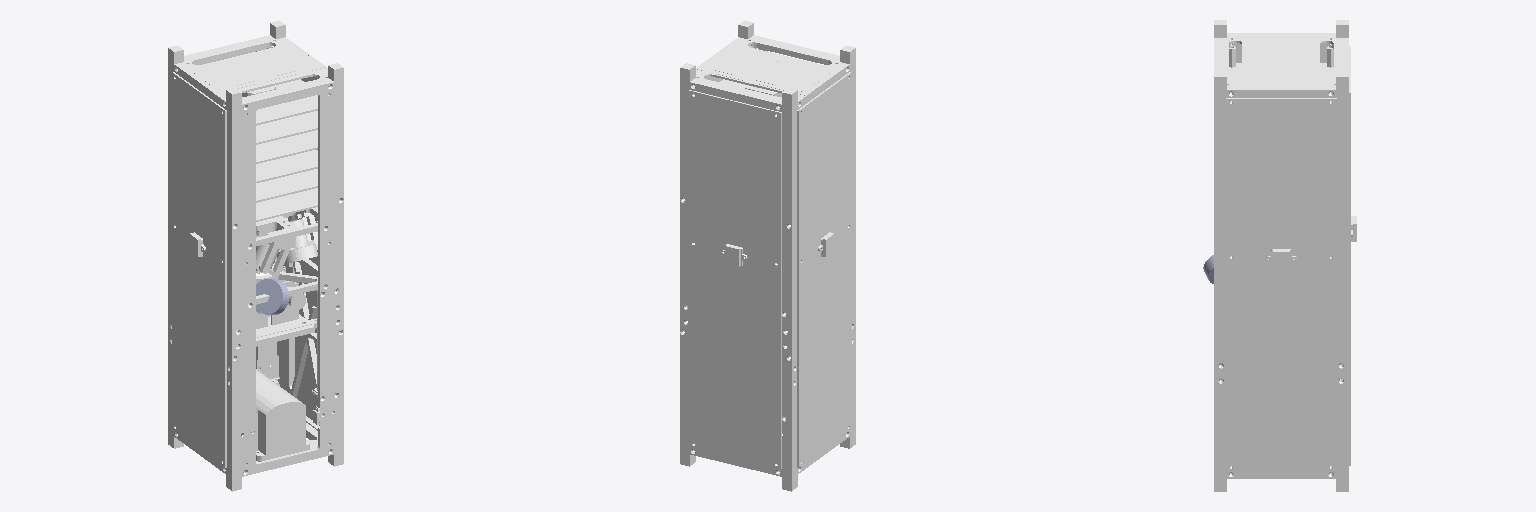
URDF robot description (V5.SLDASM):
<?xml version="1.0" encoding="utf-8"?>
<!-- This URDF was automatically created by SolidWorks to URDF Exporter! Originally created by [author] ([email redacted]) 
     Commit Version: 1.6.0-4-g7f85cfe  Build Version: 1.6.7995.38578
     For more information, please see http://wiki.ros.org/sw_urdf_exporter -->
<robot
  name="V5.SLDASM">
  <link
    name="base_link">
    <inertial>
      <origin
        xyz="-3.4532E-05 -0.0050156 -0.050866"
        rpy="0 0 0" />
      <mass
        value="1.4027" />
      <inertia
        ixx="0.0075822"
        ixy="9.4686E-09"
        ixz="5.9781E-07"
        iyy="0.001593"
        iyz="-5.3742E-08"
        izz="0.0077555" />
    </inertial>
    <visual>
      <origin
        xyz="0 0 0"
        rpy="0 0 0" />
      <geometry>
        <mesh
          filename="package://V5.SLDASM/meshes/base_link.STL" />
      </geometry>
      <material
        name="">
        <color
          rgba="1 1 1 1" />
      </material>
    </visual>
    <collision>
      <origin
        xyz="0 0 0"
        rpy="0 0 0" />
      <geometry>
        <mesh
          filename="package://V5.SLDASM/meshes/base_link.STL" />
      </geometry>
    </collision>
  </link>
  <link
    name="wheel_1">
    <inertial>
      <origin
        xyz="6.93889390390723E-18 0.00603555869043271 0"
        rpy="0 0 0" />
      <mass
        value="0.00590169582076795" />
      <inertia
        ixx="3.37315772000257E-07"
        ixy="-4.96132534509739E-23"
        ixz="-3.97046694025453E-23"
        iyy="5.82849097669195E-07"
        iyz="-1.86981342082792E-22"
        izz="3.37315772000257E-07" />
    </inertial>
    <visual>
      <origin
        xyz="0 0 0"
        rpy="0 0 0" />
      <geometry>
        <mesh
          filename="package://V5.SLDASM/meshes/wheel_1.STL" />
      </geometry>
      <material
        name="">
        <color
          rgba="0.792156862745098 0.819607843137255 0.933333333333333 1" />
      </material>
    </visual>
    <collision>
      <origin
        xyz="0 0 0"
        rpy="0 0 0" />
      <geometry>
        <mesh
          filename="package://V5.SLDASM/meshes/wheel_1.STL" />
      </geometry>
    </collision>
  </link>
  <joint
    name="wheel_joint_1"
    type="continuous">
    <origin
      xyz="0.013946 0.0813 0.0069746"
      rpy="-1.8414 0.38137 2.5012" />
    <parent
      link="base_link" />
    <child
      link="wheel_1" />
    <axis
      xyz="0 1 0" />
  </joint>
  <link
    name="wheel_2">
    <inertial>
      <origin
        xyz="-6.9389E-18 0.019217 1.3878E-17"
        rpy="0 0 0" />
      <mass
        value="0.0059017" />
      <inertia
        ixx="3.3732E-07"
        ixy="-3.9705E-23"
        ixz="-6.6174E-24"
        iyy="5.8285E-07"
        iyz="2.647E-23"
        izz="3.3732E-07" />
    </inertial>
    <visual>
      <origin
        xyz="0 0 0"
        rpy="0 0 0" />
      <geometry>
        <mesh
          filename="package://V5.SLDASM/meshes/wheel_2.STL" />
      </geometry>
      <material
        name="">
        <color
          rgba="0.79216 0.81961 0.93333 1" />
      </material>
    </visual>
    <collision>
      <origin
        xyz="0 0 0"
        rpy="0 0 0" />
      <geometry>
        <mesh
          filename="package://V5.SLDASM/meshes/wheel_2.STL" />
      </geometry>
    </collision>
  </link>
  <joint
    name="wheel_joint_2"
    type="continuous">
    <origin
      xyz="-0.029537 0.058048 0.018764"
      rpy="-2.0099 -0.15431 2.8253" />
    <parent
      link="base_link" />
    <child
      link="wheel_2" />
    <axis
      xyz="0 1 0" />
  </joint>
  <link
    name="wheel_3">
    <inertial>
      <origin
        xyz="0 0.0060333 -1.7347E-18"
        rpy="0 0 0" />
      <mass
        value="0.0059017" />
      <inertia
        ixx="3.3732E-07"
        ixy="-8.0712E-24"
        ixz="-1.3235E-23"
        iyy="5.8285E-07"
        iyz="-8.1041E-23"
        izz="3.3732E-07" />
    </inertial>
    <visual>
      <origin
        xyz="0 0 0"
        rpy="0 0 0" />
      <geometry>
        <mesh
          filename="package://V5.SLDASM/meshes/wheel_3.STL" />
      </geometry>
      <material
        name="">
        <color
          rgba="0.79216 0.81961 0.93333 1" />
      </material>
    </visual>
    <collision>
      <origin
        xyz="0 0 0"
        rpy="0 0 0" />
      <geometry>
        <mesh
          filename="package://V5.SLDASM/meshes/wheel_3.STL" />
      </geometry>
    </collision>
  </link>
  <joint
    name="wheel_joint_3"
    type="continuous">
    <origin
      xyz="-0.013942 0.0187 0.0069726"
      rpy="-1.2563 -0.34664 2.3779" />
    <parent
      link="base_link" />
    <child
      link="wheel_3" />
    <axis
      xyz="0 1 0" />
  </joint>
  <link
    name="wheel_4">
    <inertial>
      <origin
        xyz="0 0 0"
        rpy="0 0 0" />
      <mass
        value="0" />
      <inertia
        ixx="0"
        ixy="0"
        ixz="0"
        iyy="0"
        iyz="0"
        izz="0" />
    </inertial>
    <visual>
      <origin
        xyz="0 0 0"
        rpy="0 0 0" />
      <geometry>
        <mesh
          filename="package://V5.SLDASM/meshes/wheel_4.STL" />
      </geometry>
      <material
        name="">
        <color
          rgba="1 1 1 1" />
      </material>
    </visual>
    <collision>
      <origin
        xyz="0 0 0"
        rpy="0 0 0" />
      <geometry>
        <mesh
          filename="package://V5.SLDASM/meshes/wheel_4.STL" />
      </geometry>
    </collision>
  </link>
  <joint
    name="wheel_joint_4"
    type="continuous">
    <origin
      xyz="0.0295425000000004 0.0320691434846872 -0.000997831586259601"
      rpy="-1.20069707276914 0.286126294710011 2.51267367188149" />
    <parent
      link="base_link" />
    <child
      link="wheel_4" />
    <axis
      xyz="0 1 0" />
  </joint>
</robot>

--- What the picture shows (computed from the rendered views, not written in the file) ---
The picture shows the robot from 3 angles, left to right: view 1: azimuth 30°, elevation 25°; view 2: azimuth 150°, elevation 25°; view 3: azimuth 270°, elevation 25°; orthographic projection.
Robot: V5.SLDASM — 5 links, 4 joints (4 continuous); root link base_link; default pose: every joint at zero.
Visible links, largest first — view 1: base_link, wheel_3; view 2: base_link; view 3: base_link.
Link boxes in pixels (x1=…): base_link: x1=168, y1=20, x2=343, y2=491; wheel_3: x1=256, y1=279, x2=288, y2=314; base_link: x1=680, y1=20, x2=855, y2=491; base_link: x1=1214, y1=20, x2=1356, y2=491.
Size in the robot's own frame: 0.112 by 0.1141 by 0.3405 metres.
Meshes: 5 distinct files referenced, 5 mesh visuals loaded (5 binary STL).